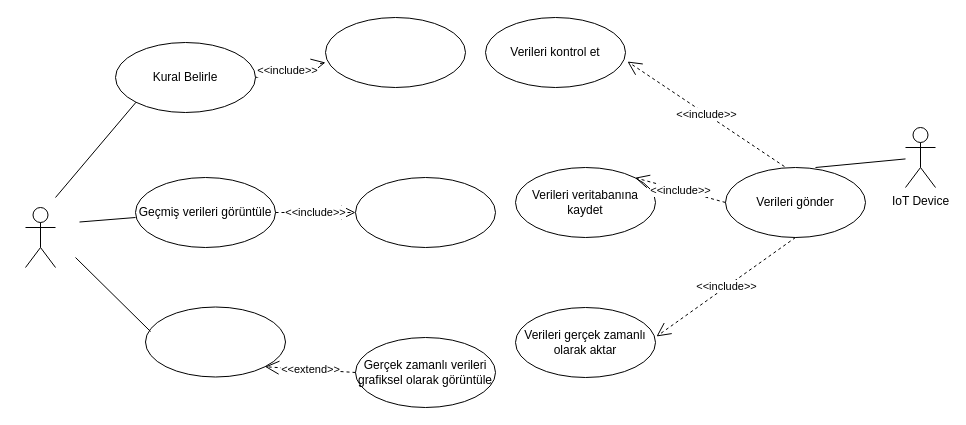
Image size: 966x425. Some labels were removed from this diagram. Here are the shapes that lost their labels. From the top down, the box of each, then its label:
(324, 16, 466, 88): Veritabanına kural yaz
(354, 176, 496, 248): Verileri sensor-network veritabanından çek
(24, 206, 56, 268): Kullanıcı
(144, 306, 286, 377): Verileri gerçek zamanlı görüntüle
